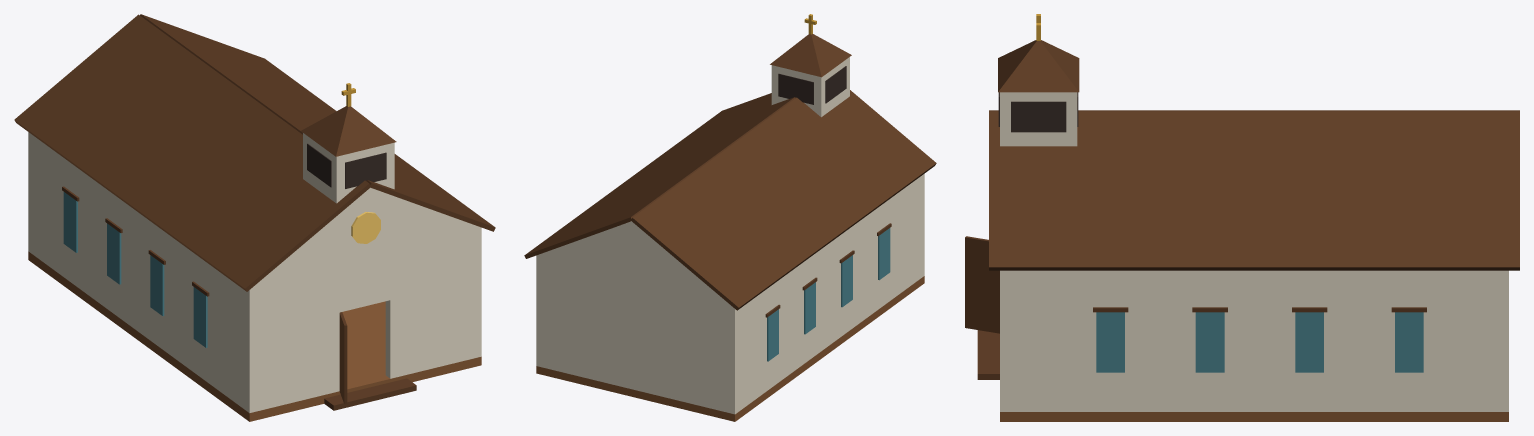
The model's file is Church.fbx.
The picture shows the model from 3 angles, left to right: view 1: azimuth 30°, elevation 25°; view 2: azimuth 150°, elevation 25°; view 3: azimuth 270°, elevation 25°; orthographic projection. The views are drawn at different scales.
Visible parts, largest first — view 1: Walls, Roof, Floor, Detail; view 2: Walls, Roof, Detail, Floor; view 3: Roof, Walls, Detail, Floor.
Boxes of the visible parts, box(x1,y1,x2,y2) form: Walls: box(28, 132, 481, 413); Roof: box(14, 14, 495, 291); Floor: box(28, 251, 481, 421); Detail: box(62, 83, 386, 404); Walls: box(536, 57, 924, 414); Roof: box(524, 34, 936, 310); Detail: box(765, 14, 891, 361); Floor: box(536, 276, 924, 421); Roof: box(989, 40, 1519, 270); Walls: box(1000, 92, 1508, 411); Detail: box(965, 14, 1426, 372); Floor: box(977, 330, 1508, 421).
Size of the model in its own units: 30 by 34 by 50.
